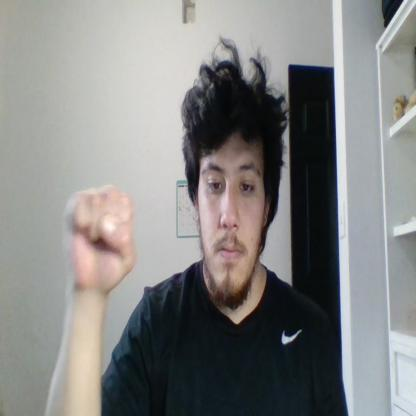S: (62, 184, 136, 293)
